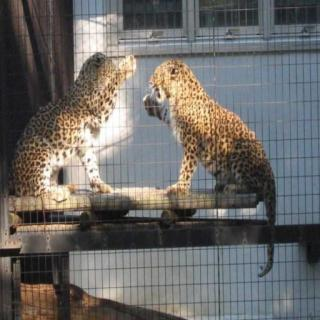Leopard: (148, 55, 294, 266), (2, 38, 143, 219)
